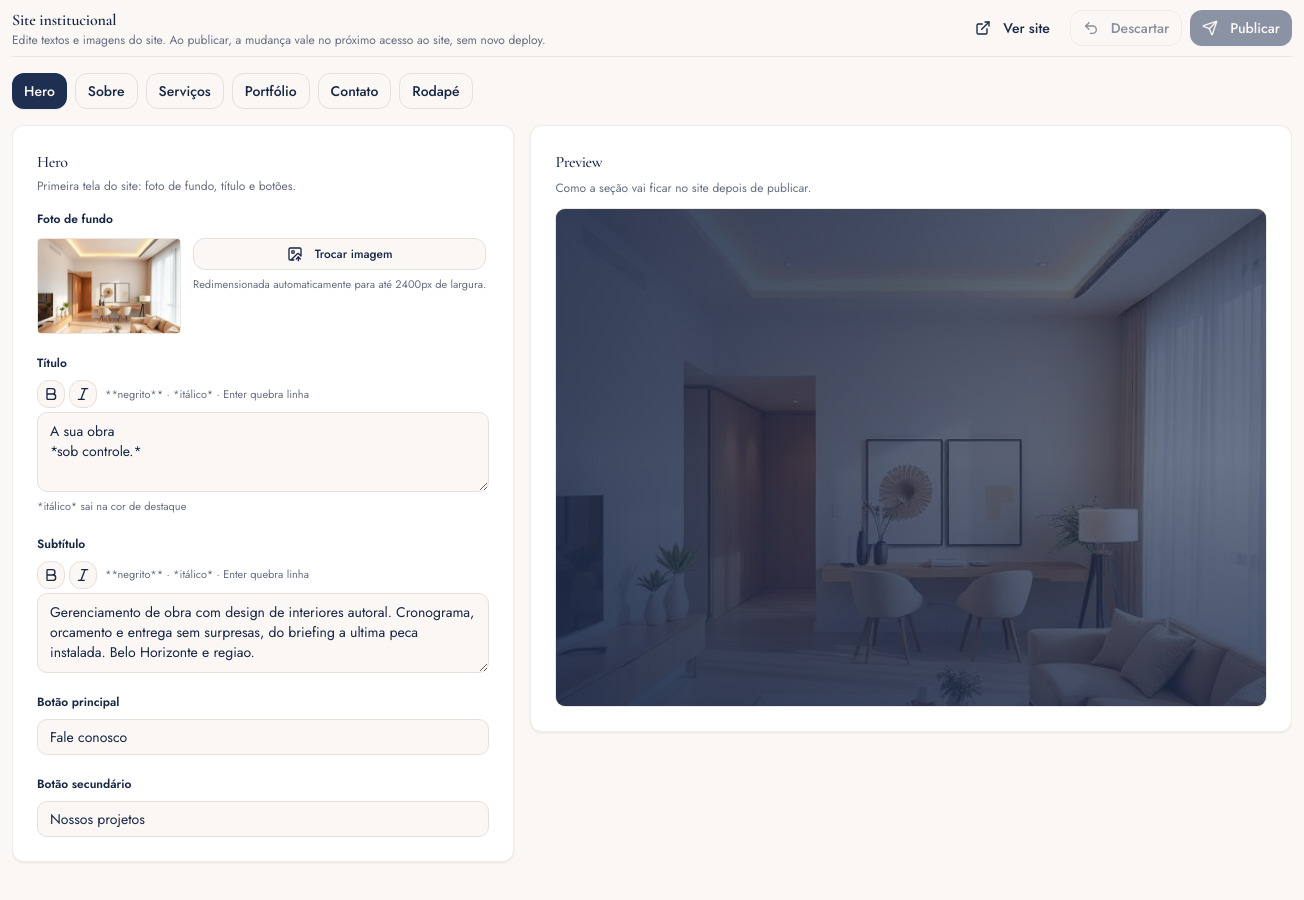
it: aba Site › Descartar volta ao publicado
Replace the text in the field labelled "Botão principal" with "Orçamento" at (263, 736), box [37, 718, 489, 754]
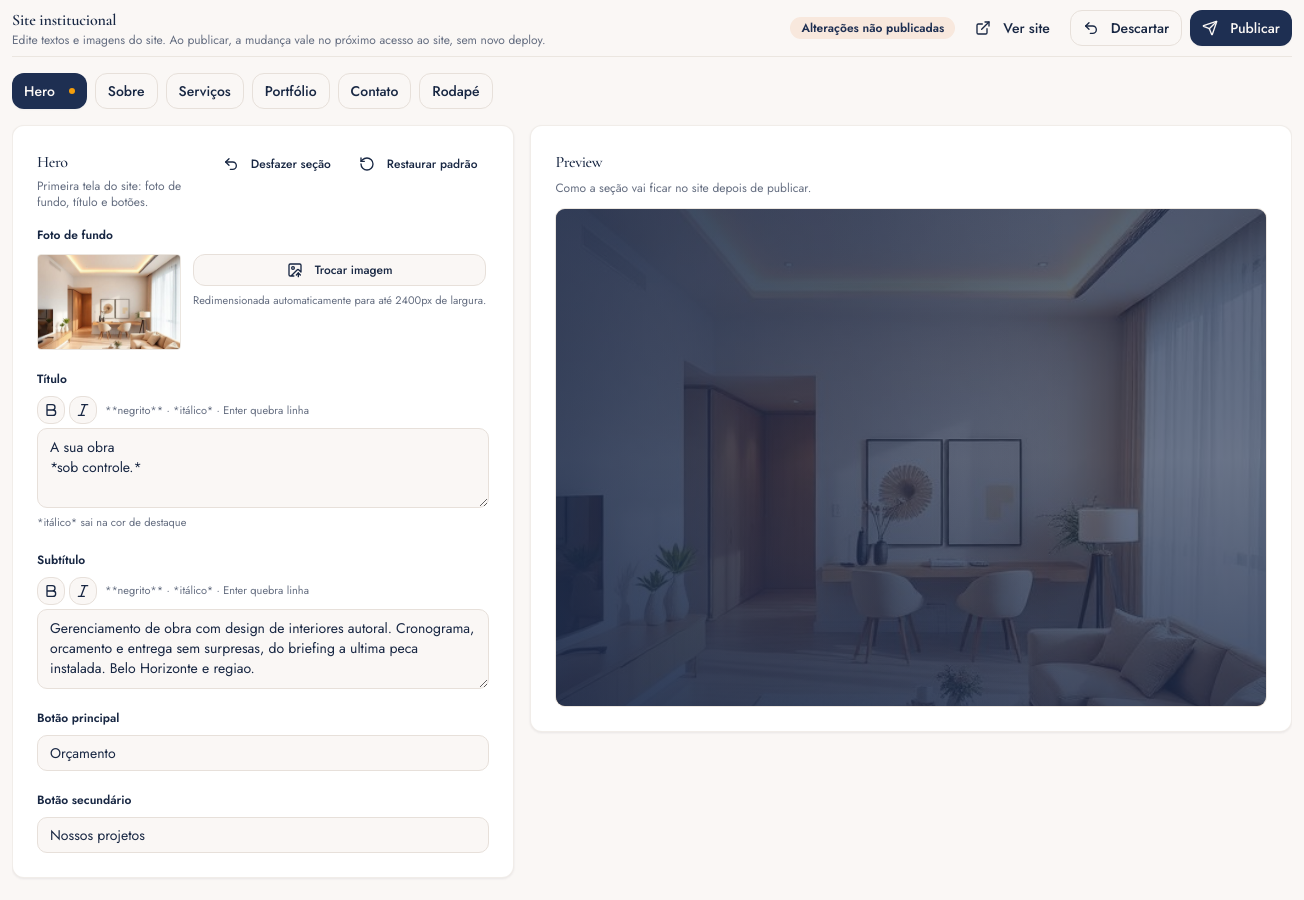
Expected: the button "Publicar" is enabled, [1190, 10, 1292, 46]
Click the button "Descartar" at (1126, 28), box [1070, 10, 1182, 46]
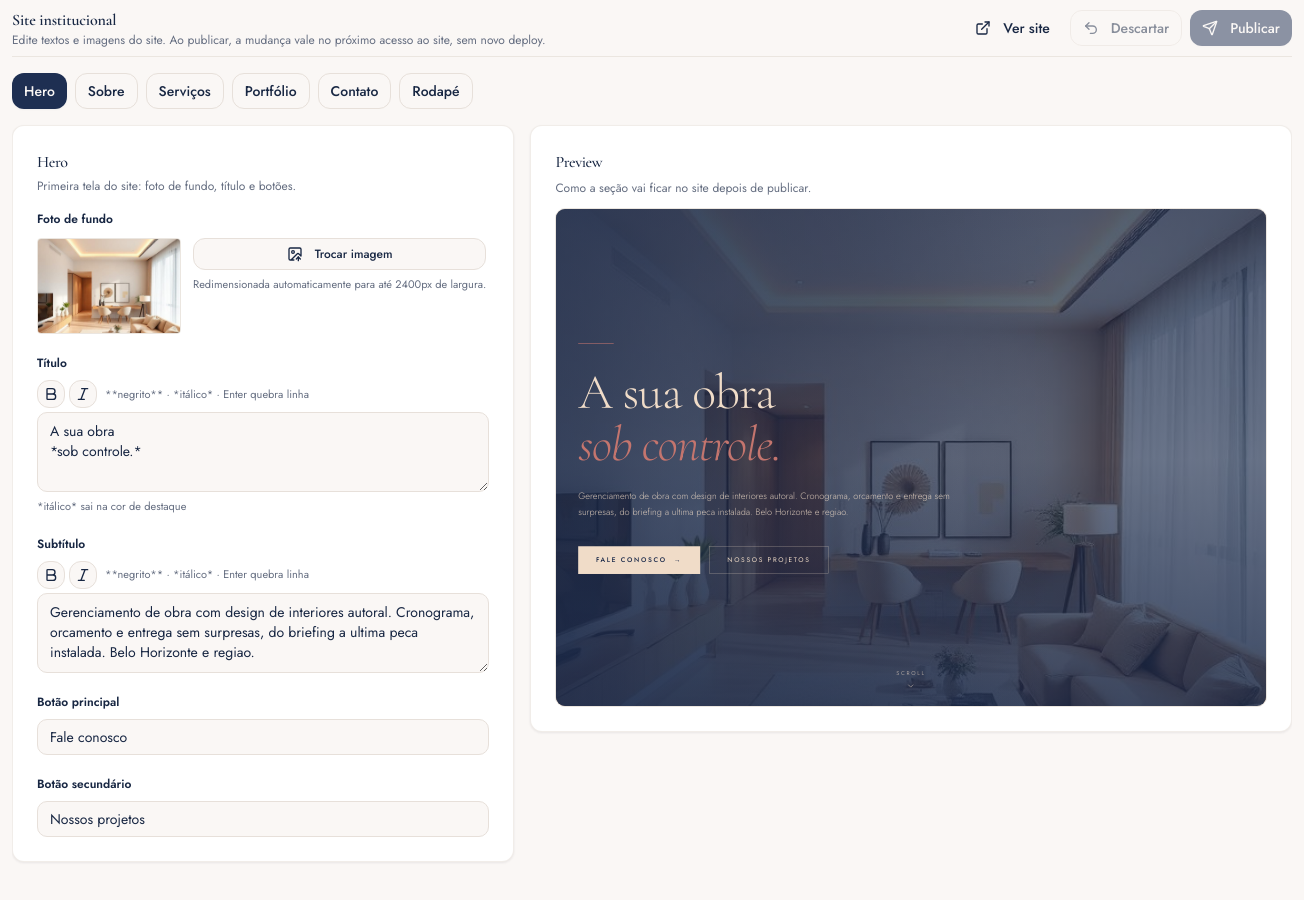
Expected: the field labelled "Botão principal" holds "Fale conosco", [37, 718, 489, 754]
Expected: the button "Publicar" is disabled, [1190, 10, 1292, 46]
